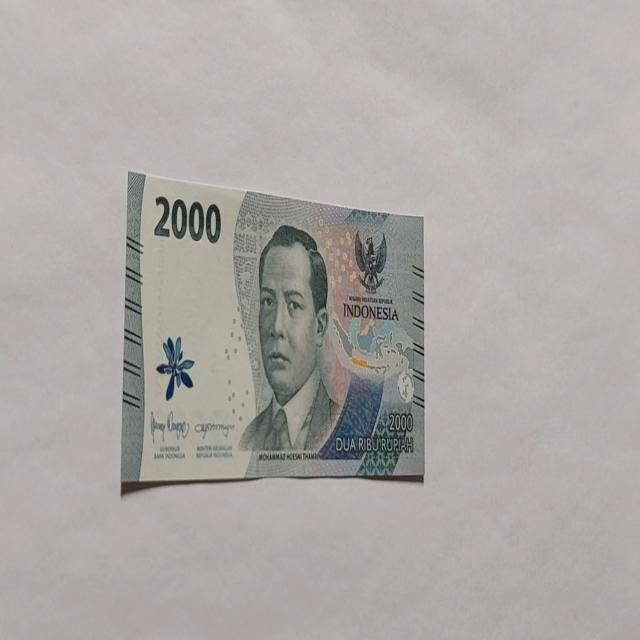dua ribu rupiah: (120, 168, 426, 492), (238, 223, 342, 456)
